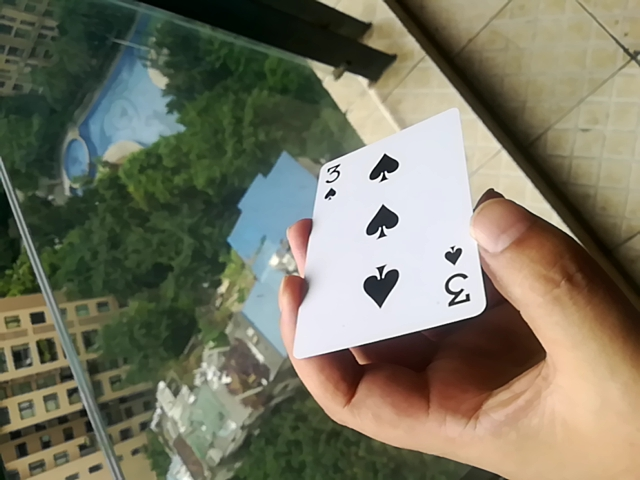ht 3: (287, 106, 487, 361)
